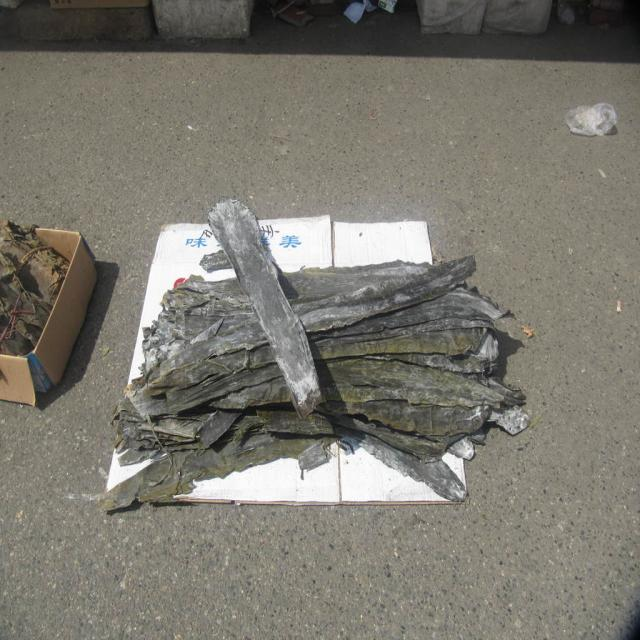Box: (11, 214, 96, 404)
